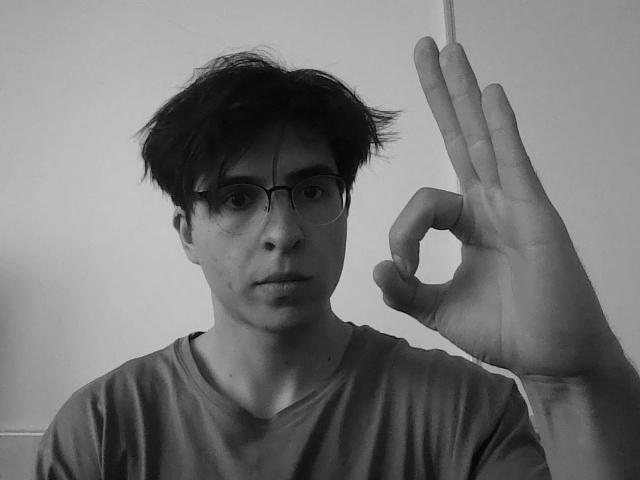OK: (373, 37, 623, 378)
